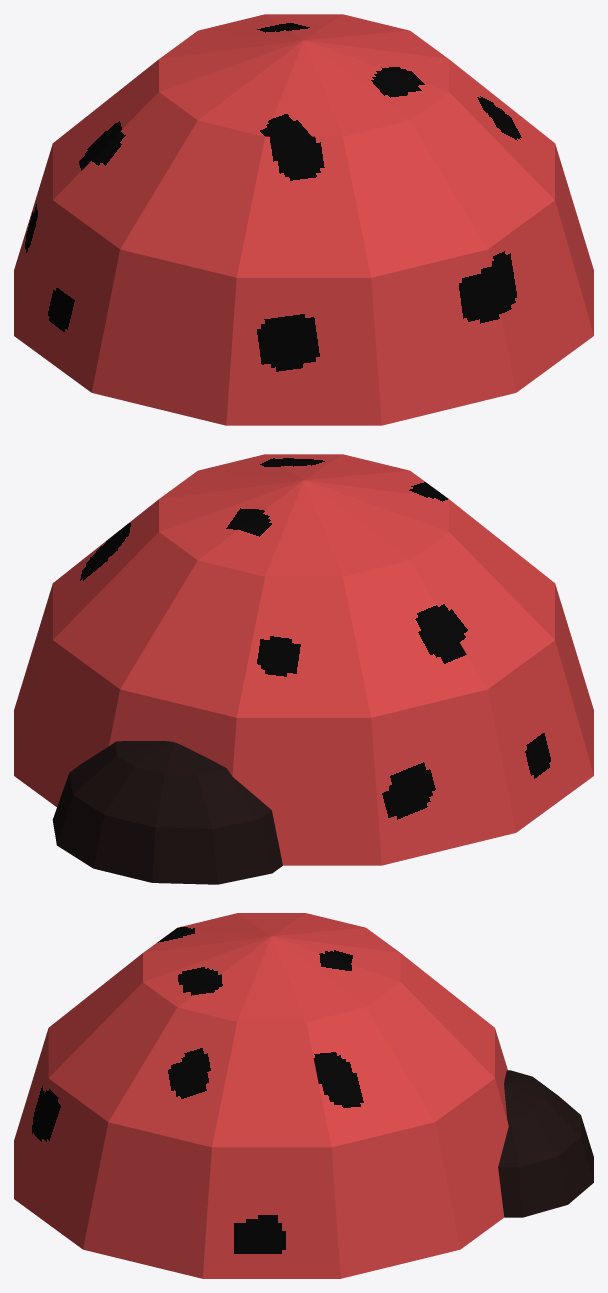
Rendered from ladybug.gltf.
3 renders of one model, top to bottom at view 1: azimuth 30°, elevation 25°; view 2: azimuth 150°, elevation 25°; view 3: azimuth 270°, elevation 25°, orthographic. The views are drawn at different scales.
Parts seen in each view (by area): view 1: body; view 2: body, head; view 3: body, head.
Boxes of the visible parts, x1,y1,x2,y2 form: body: [14, 14, 593, 425]; body: [14, 454, 593, 865]; head: [52, 741, 282, 884]; body: [14, 913, 508, 1278]; head: [498, 1070, 593, 1217].
Size of the model in its own units: 1 by 0.5 by 1.12.
Materials: 2 (2 with a texture image).
